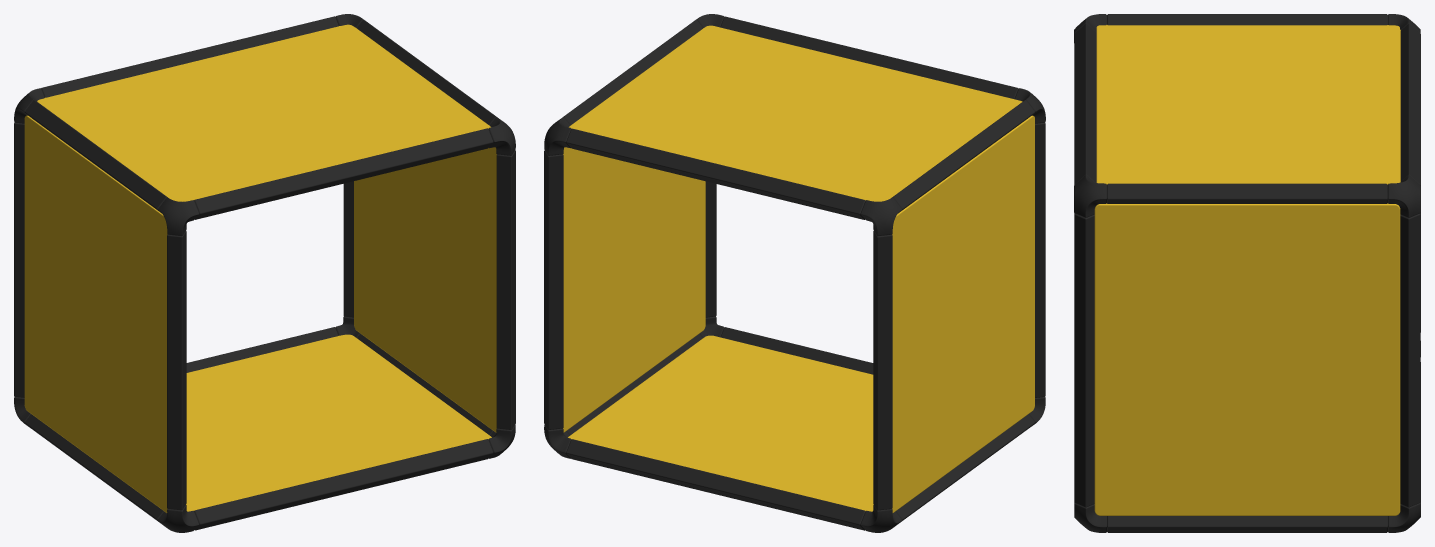
The picture shows the model from 3 angles, left to right: view 1: azimuth 30°, elevation 25°; view 2: azimuth 150°, elevation 25°; view 3: azimuth 270°, elevation 25°; orthographic projection. The views are drawn at different scales.
Visible parts, largest first — view 1: 420x329x374; view 2: 420x329x374; view 3: 420x329x374.
Part boxes in pixels (left/top/right/bottom): 420x329x374: left=14, top=14, right=515, bottom=532; 420x329x374: left=544, top=14, right=1045, bottom=532; 420x329x374: left=1074, top=14, right=1420, bottom=532.
Size of the model in its own units: 0.4977 by 0.4516 by 0.4063.
